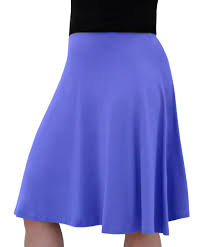C_skirt: (4, 30, 198, 238)
